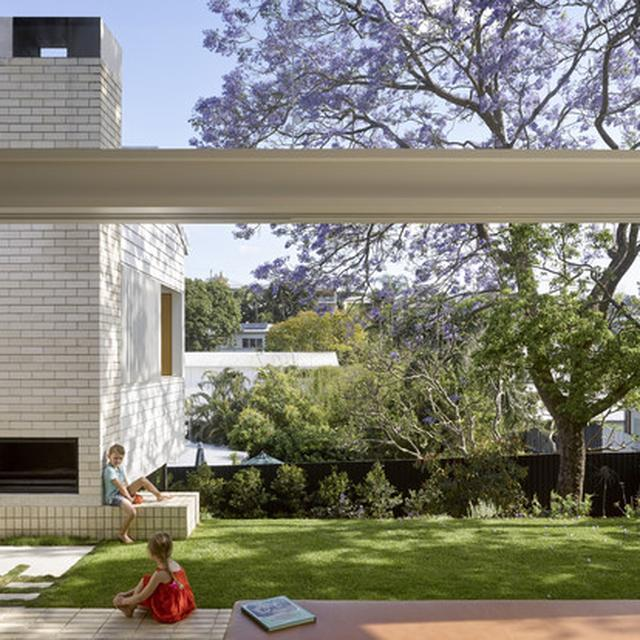building: (0, 14, 202, 537), (216, 315, 275, 358)
